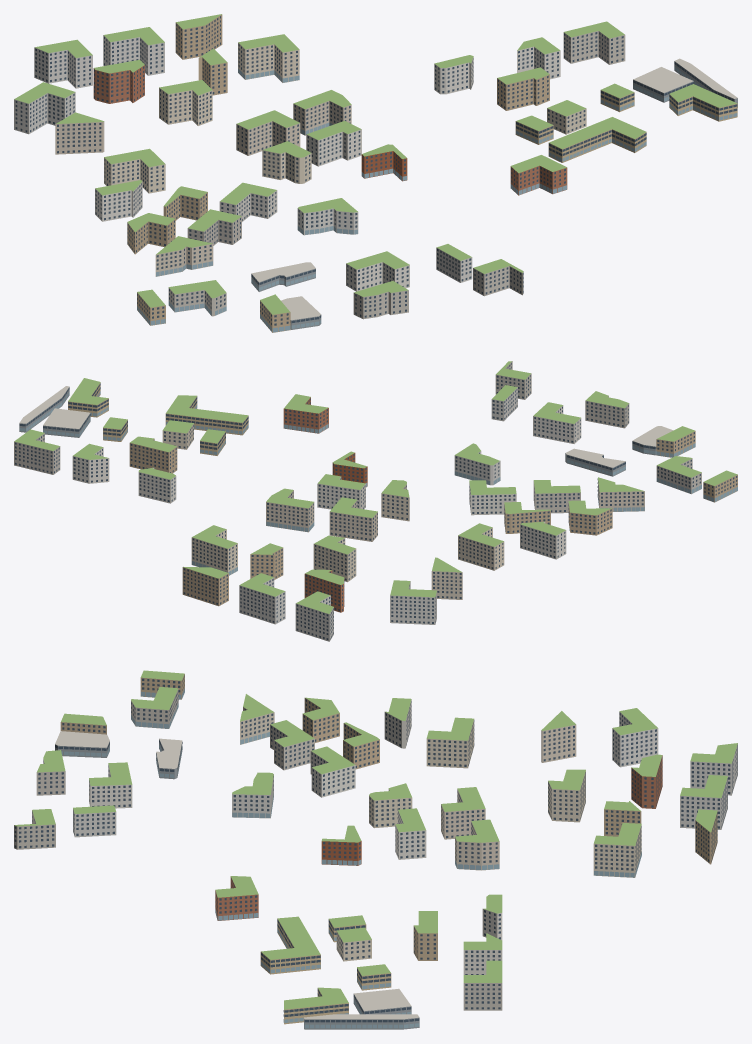
3 views of the same model, one above another, from view 1: azimuth 30°, elevation 25°; view 2: azimuth 150°, elevation 25°; view 3: azimuth 270°, elevation 25° (orthographic). The views are drawn at different scales.
Visible parts, largest first — view 1: S3_P1_wand, S3_P2_wand, S3_P3_wand, S3_P3_dach, S3_P4_wand, S3_P3_fenster, S3_P1_fenster, S3_P2_dach, S3_P2_fenster, S3_P1_dach, S3_P4_dach, S3_P4_fenster; view 2: S3_P2_wand, S3_P1_wand, S3_P3_wand, S3_P3_dach, S3_P4_wand, S3_P3_fenster, S3_P2_dach, S3_P2_fenster, S3_P1_fenster, S3_P1_dach, S3_P4_dach, S3_P4_fenster; view 3: S3_P3_wand, S3_P1_wand, S3_P2_wand, S3_P3_dach, S3_P3_fenster, S3_P4_wand, S3_P2_dach, S3_P4_dach, S3_P1_dach, S3_P1_fenster, S3_P2_fenster, S3_P4_fenster.
Part boxes in pixels (bbox=[...]): S3_P1_wand: bbox=[14, 14, 299, 154]; S3_P2_wand: bbox=[95, 31, 625, 221]; S3_P3_wand: bbox=[127, 61, 737, 276]; S3_P3_dach: bbox=[127, 58, 737, 254]; S3_P4_wand: bbox=[137, 247, 523, 332]; S3_P3_fenster: bbox=[127, 62, 737, 276]; S3_P1_fenster: bbox=[15, 16, 299, 153]; S3_P2_dach: bbox=[95, 21, 624, 195]; S3_P2_fenster: bbox=[95, 32, 623, 220]; S3_P1_dach: bbox=[14, 14, 299, 123]; S3_P4_dach: bbox=[137, 244, 523, 320]; S3_P4_fenster: bbox=[137, 249, 523, 332]; S3_P2_wand: bbox=[14, 433, 566, 570]; S3_P1_wand: bbox=[182, 529, 462, 641]; S3_P3_wand: bbox=[19, 382, 644, 535]; S3_P3_dach: bbox=[19, 378, 644, 515]; S3_P4_wand: bbox=[491, 361, 737, 502]; S3_P3_fenster: bbox=[19, 383, 644, 534]; S3_P2_dach: bbox=[14, 429, 565, 546]; S3_P2_fenster: bbox=[15, 434, 565, 569]; S3_P1_fenster: bbox=[183, 531, 461, 639]; S3_P1_dach: bbox=[183, 525, 461, 613]; S3_P4_dach: bbox=[492, 361, 737, 485]; S3_P4_fenster: bbox=[492, 363, 737, 501]; S3_P3_wand: bbox=[215, 698, 419, 1029]; S3_P1_wand: bbox=[541, 712, 737, 877]; S3_P2_wand: bbox=[369, 700, 502, 1010]; S3_P3_dach: bbox=[215, 694, 419, 1019]; S3_P3_fenster: bbox=[215, 699, 419, 1028]; S3_P4_wand: bbox=[14, 674, 184, 849]; S3_P2_dach: bbox=[369, 698, 502, 982]; S3_P4_dach: bbox=[14, 670, 184, 826]; S3_P1_dach: bbox=[541, 708, 737, 845]; S3_P1_fenster: bbox=[543, 713, 737, 877]; S3_P2_fenster: bbox=[369, 701, 500, 1009]; S3_P4_fenster: bbox=[14, 675, 184, 848].
Bounding box in the file's own units: 520 × 22.8 × 467.
